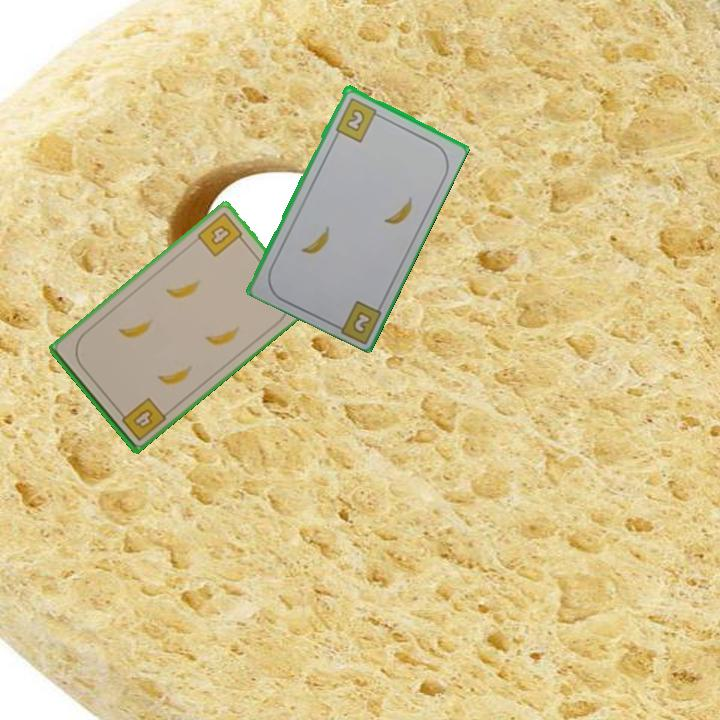2b: (332, 94, 384, 144), (349, 307, 375, 336)
4b: (193, 208, 249, 259), (114, 394, 169, 444)
